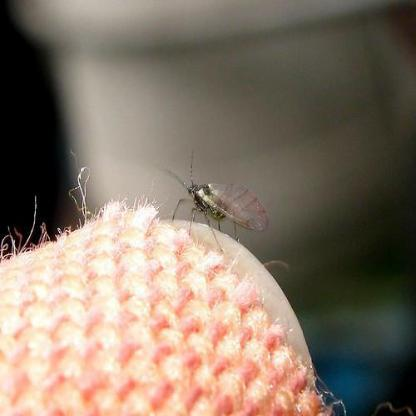aphid: (160, 142, 274, 253)
